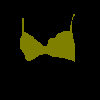reggiseno: (20, 14, 75, 62)
